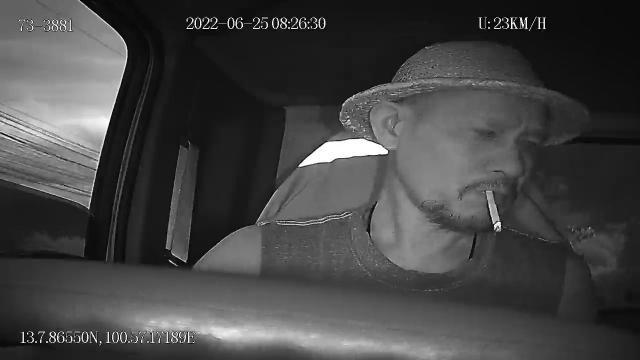Smoking: (484, 188, 502, 232)
